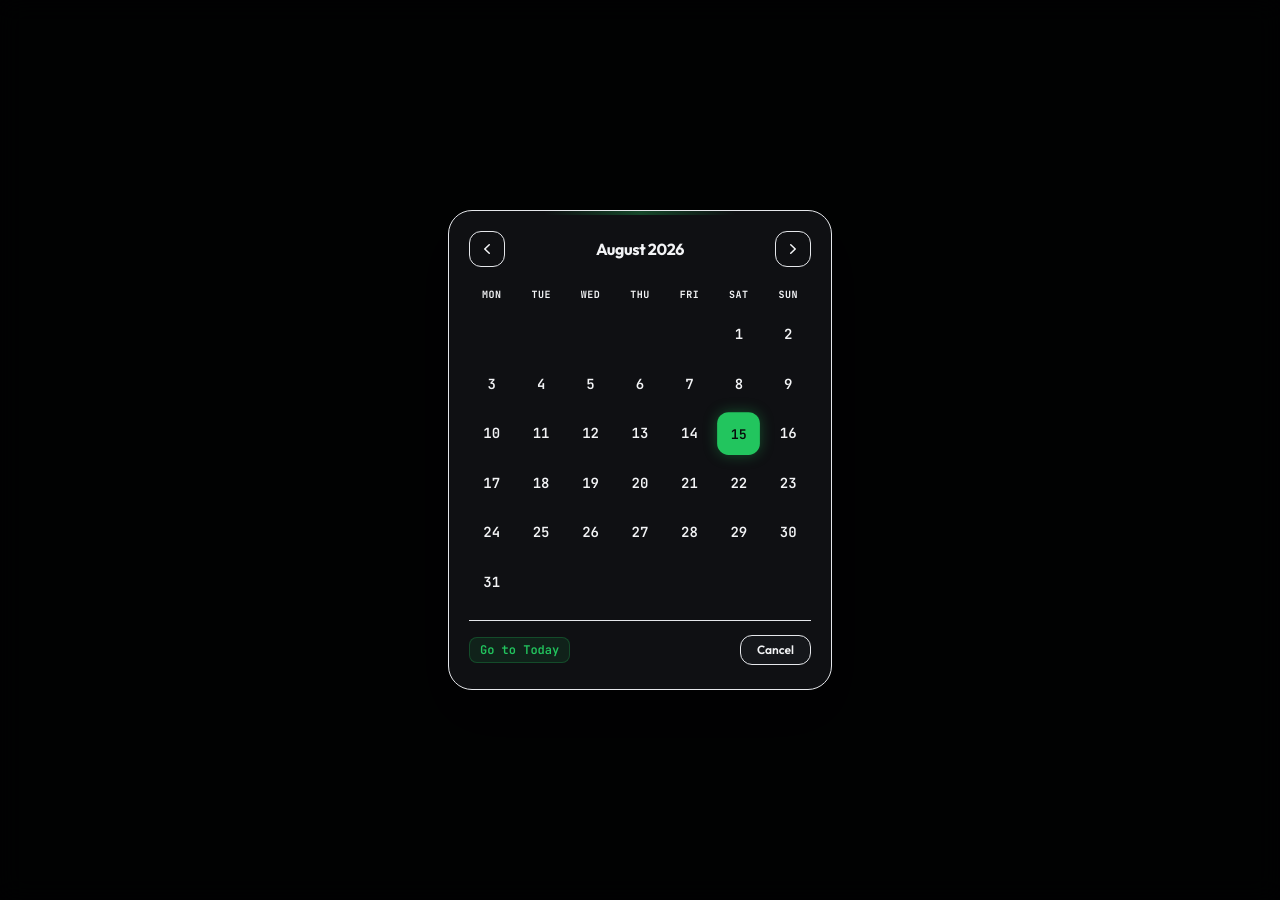
Test: DatePicker Component › navigates to previous month on chevron left click
The width and height of the screenshot is (1280, 900).
expect the heading "August 2026" is shown: met, box [596,237,684,261]
First button in the header is ChevronLeft
Click the button named "Previous Month". click: point(487, 249)
box: [469,231,505,267]
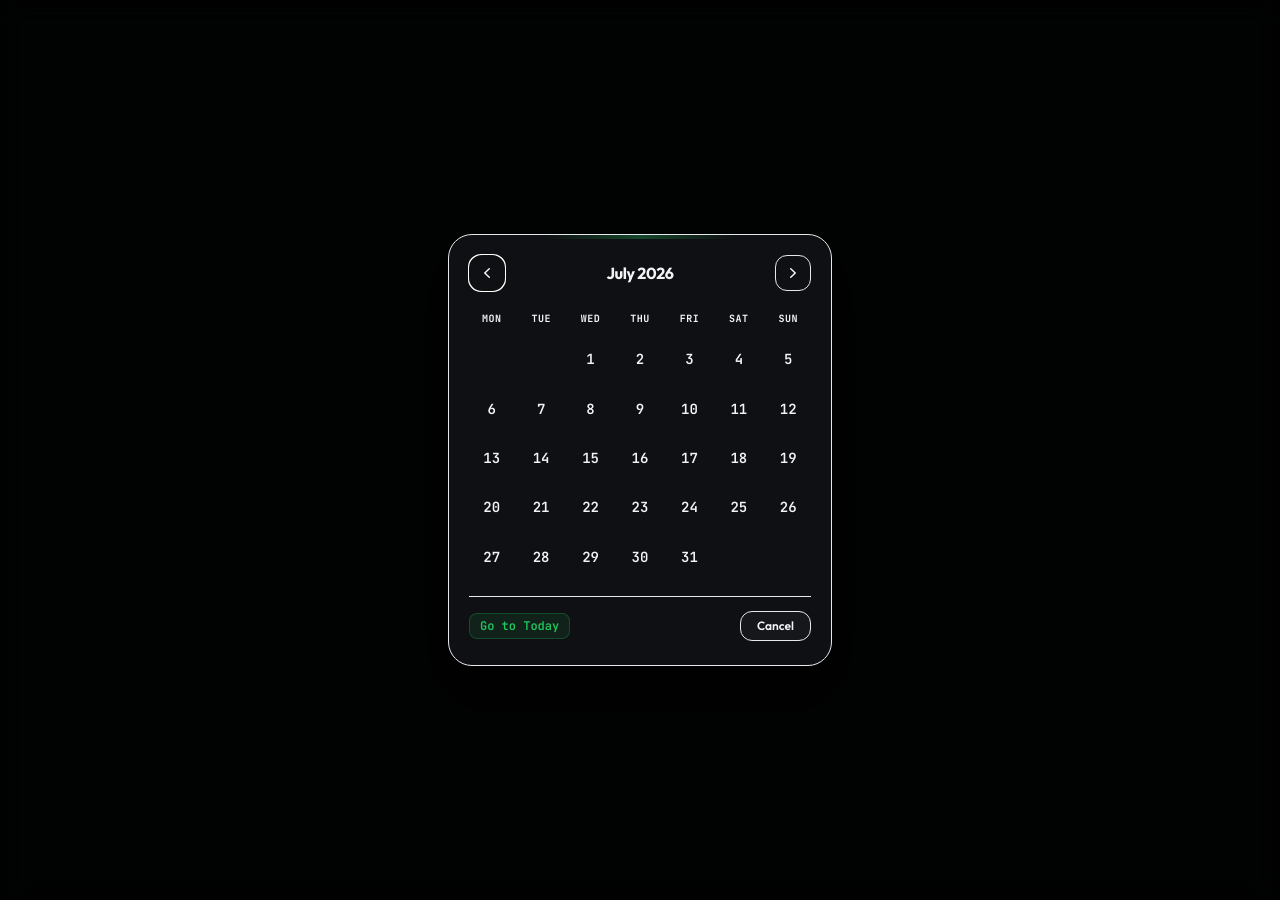
expect the heading "July 2026" is shown: met, box [606,261,674,285]
